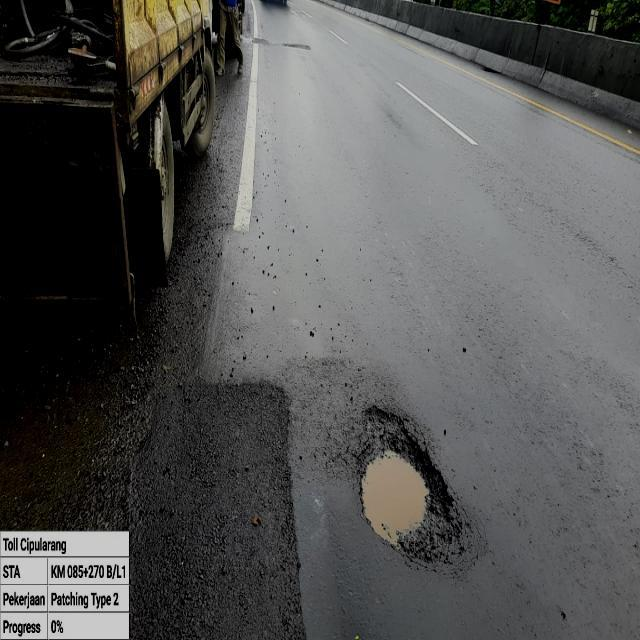Buraco: (347, 403, 469, 567), (280, 42, 314, 52), (250, 36, 274, 48)
